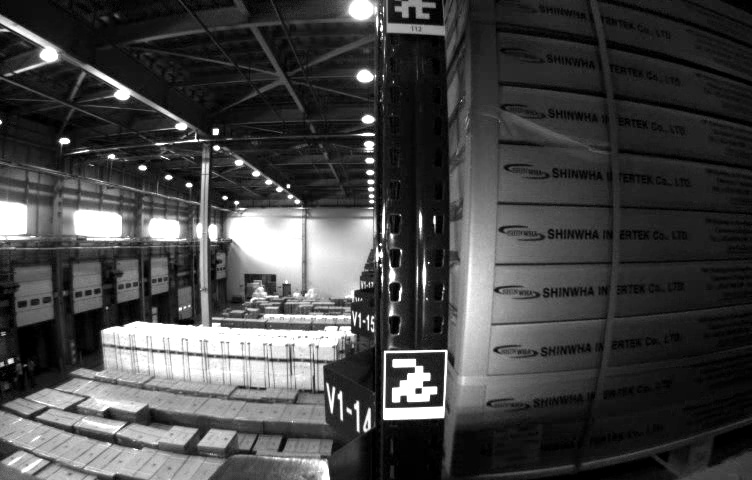True Barcode: (490, 425, 542, 469)
